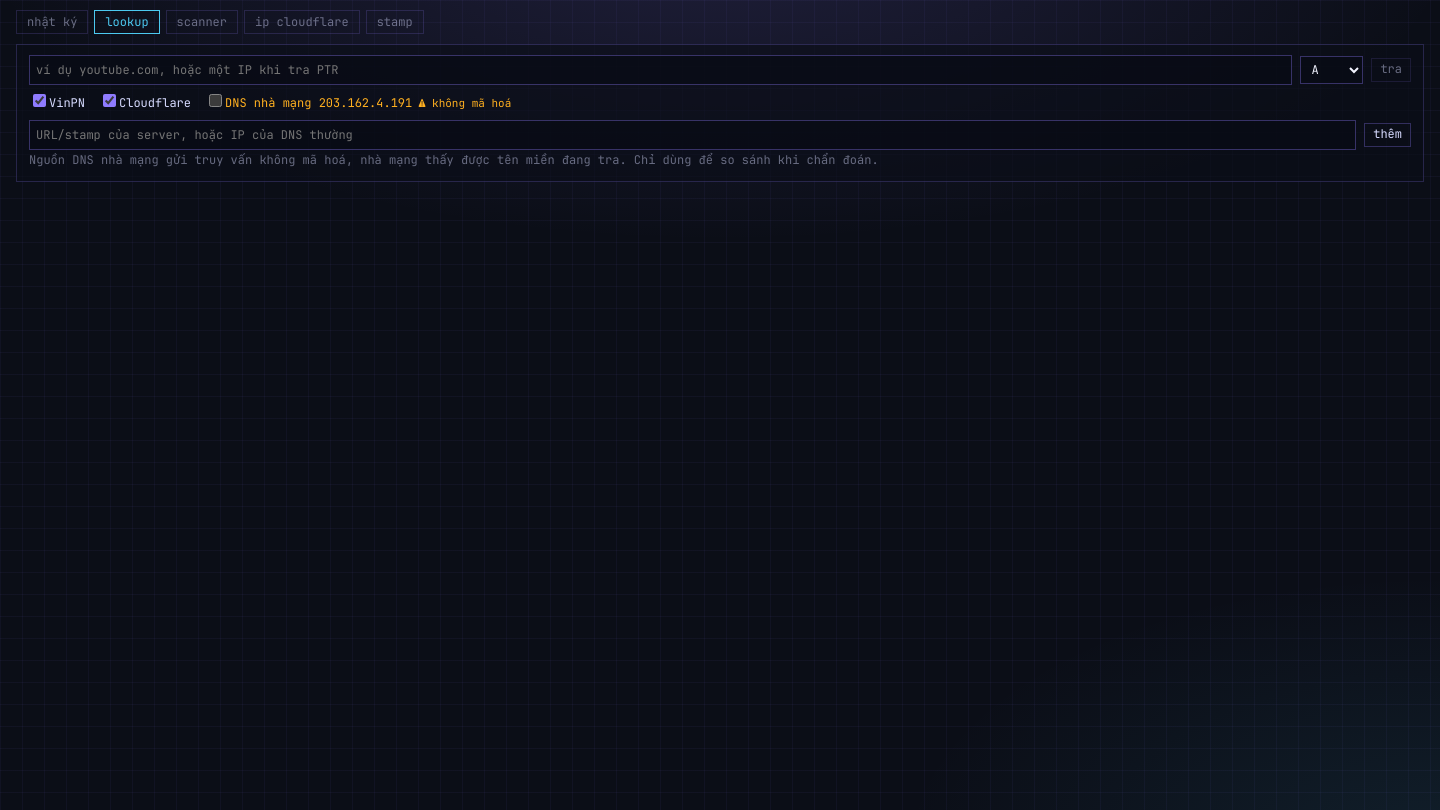
Test: verdict match has its own title
In the field named "tên miền": (661,70) [29,55,1292,85], type "x.com"
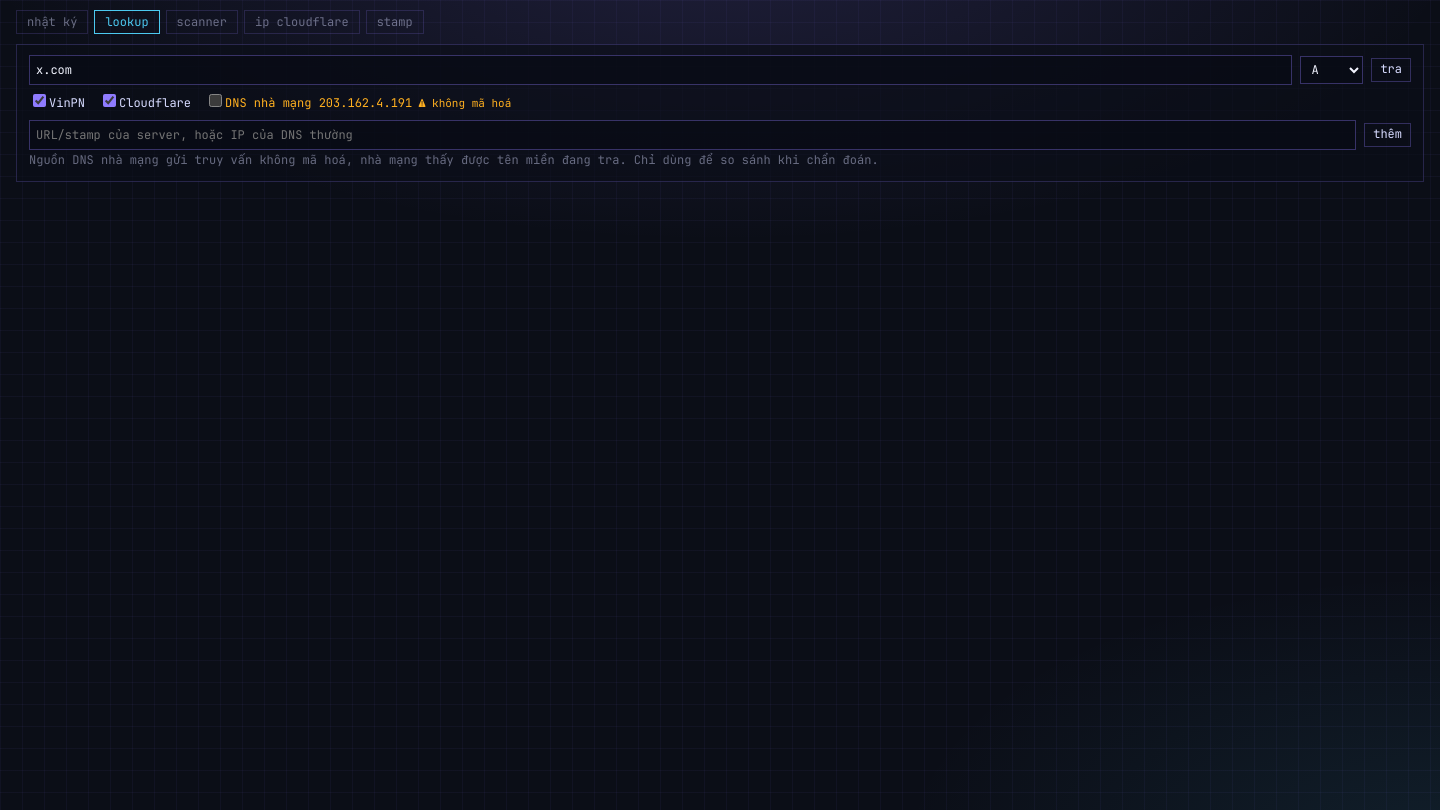
Click the button "tra": (1391,70) [1371,58,1411,82]
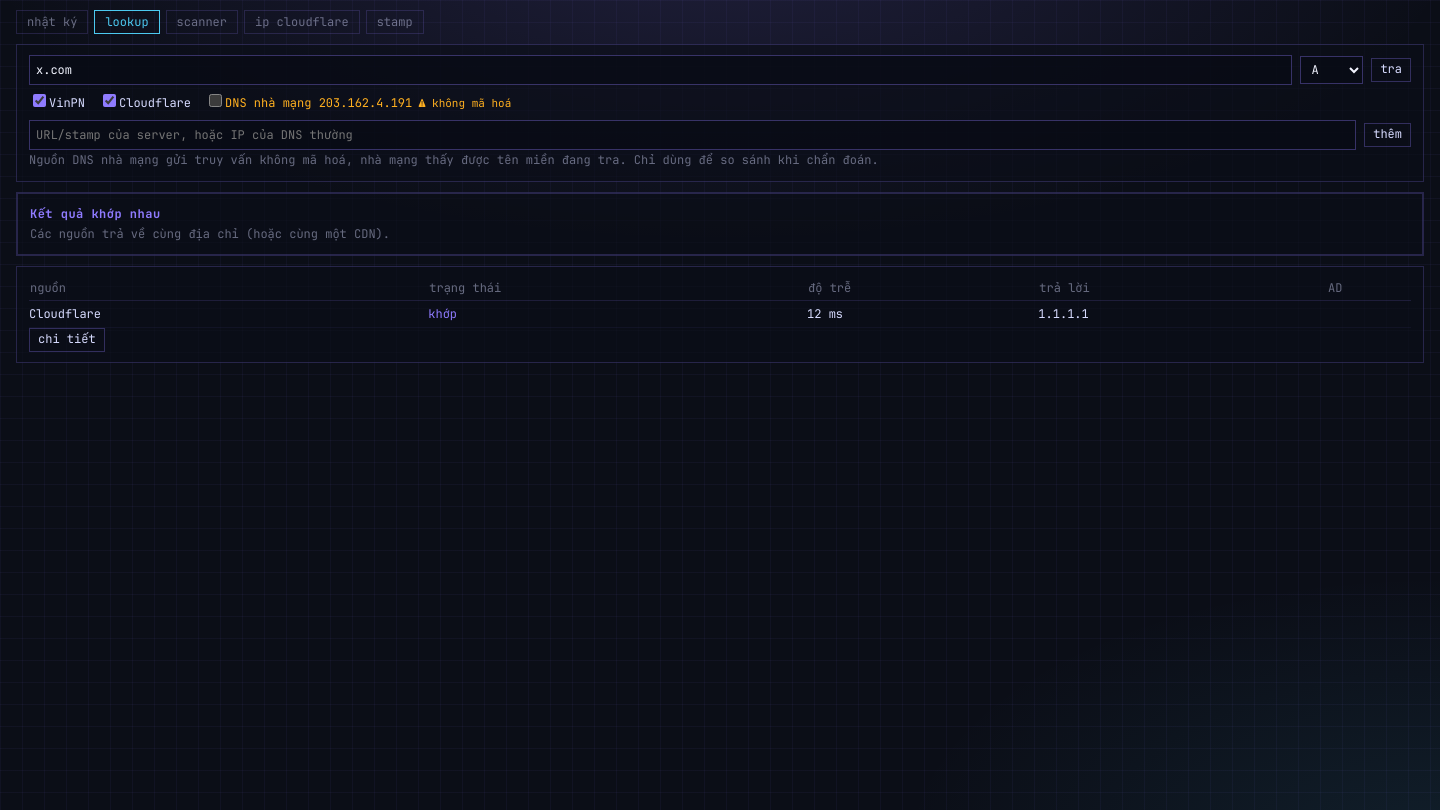
Result: the text "Kết quả khớp nhau" is shown at [30,206,161,222]
